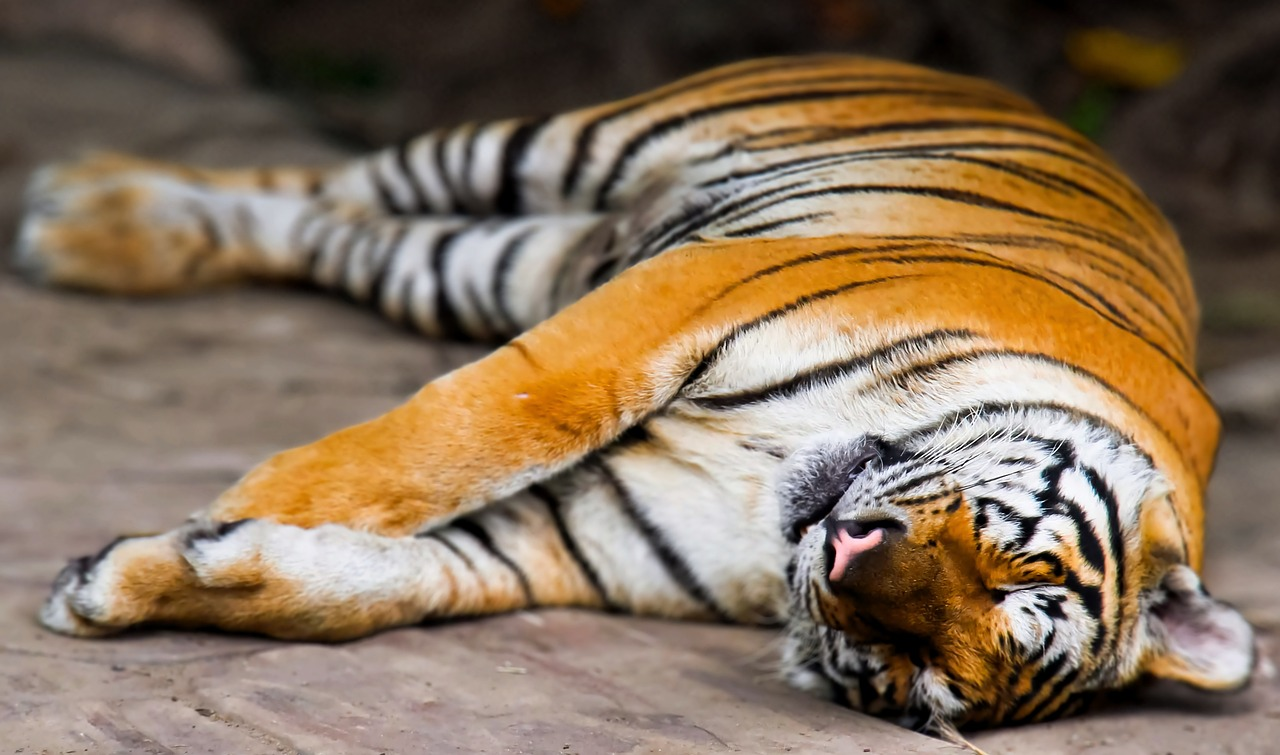tiger: (747, 408, 1235, 716)
